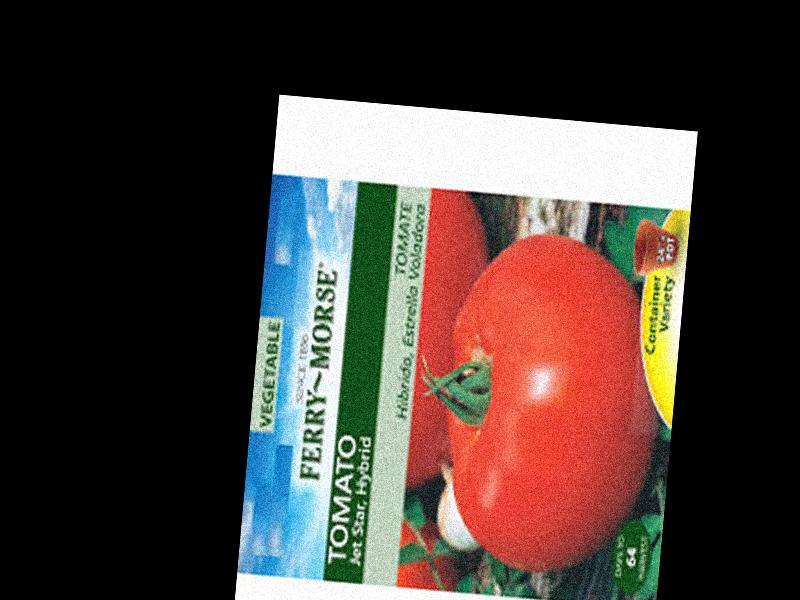Tomato: (433, 230, 672, 581)
